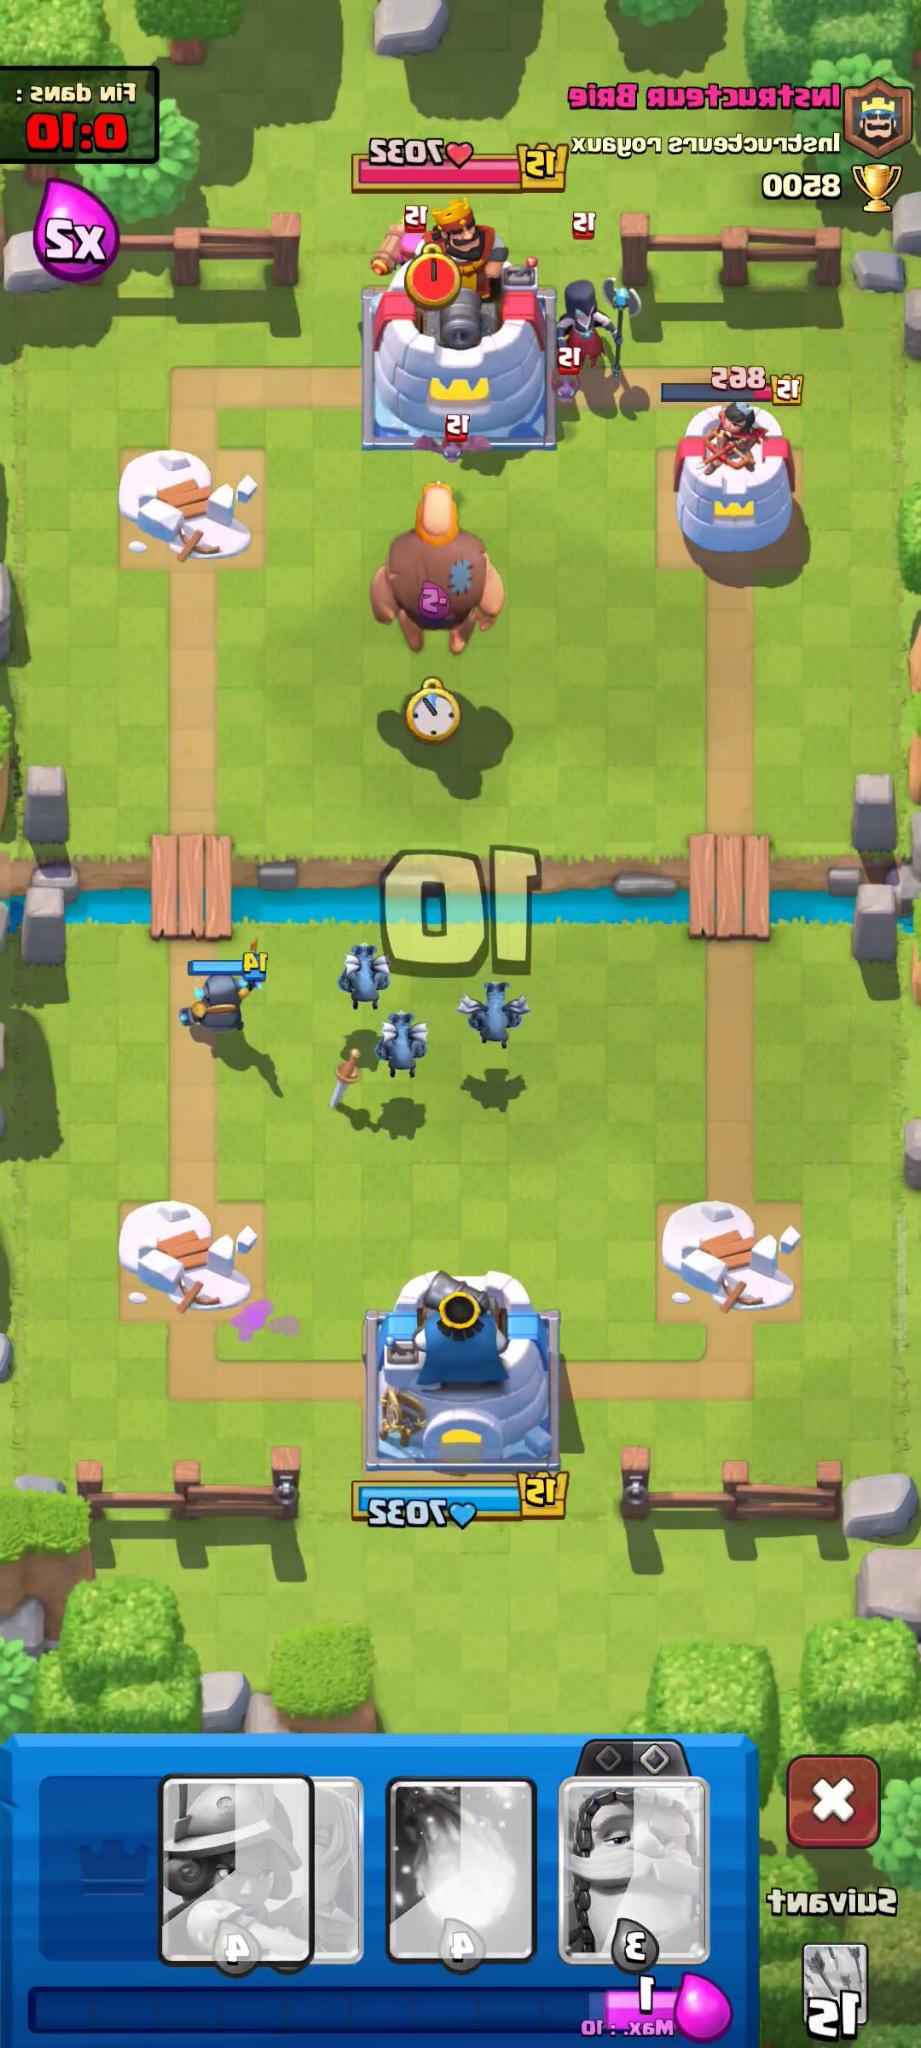bat: (410, 408, 495, 469), (526, 351, 592, 410)
gargouille: (459, 980, 529, 1049), (338, 940, 389, 1012), (376, 1011, 422, 1080), (397, 1007, 427, 1078)
geant: (371, 495, 507, 662)
mini_PEKKA: (184, 950, 269, 1046)
